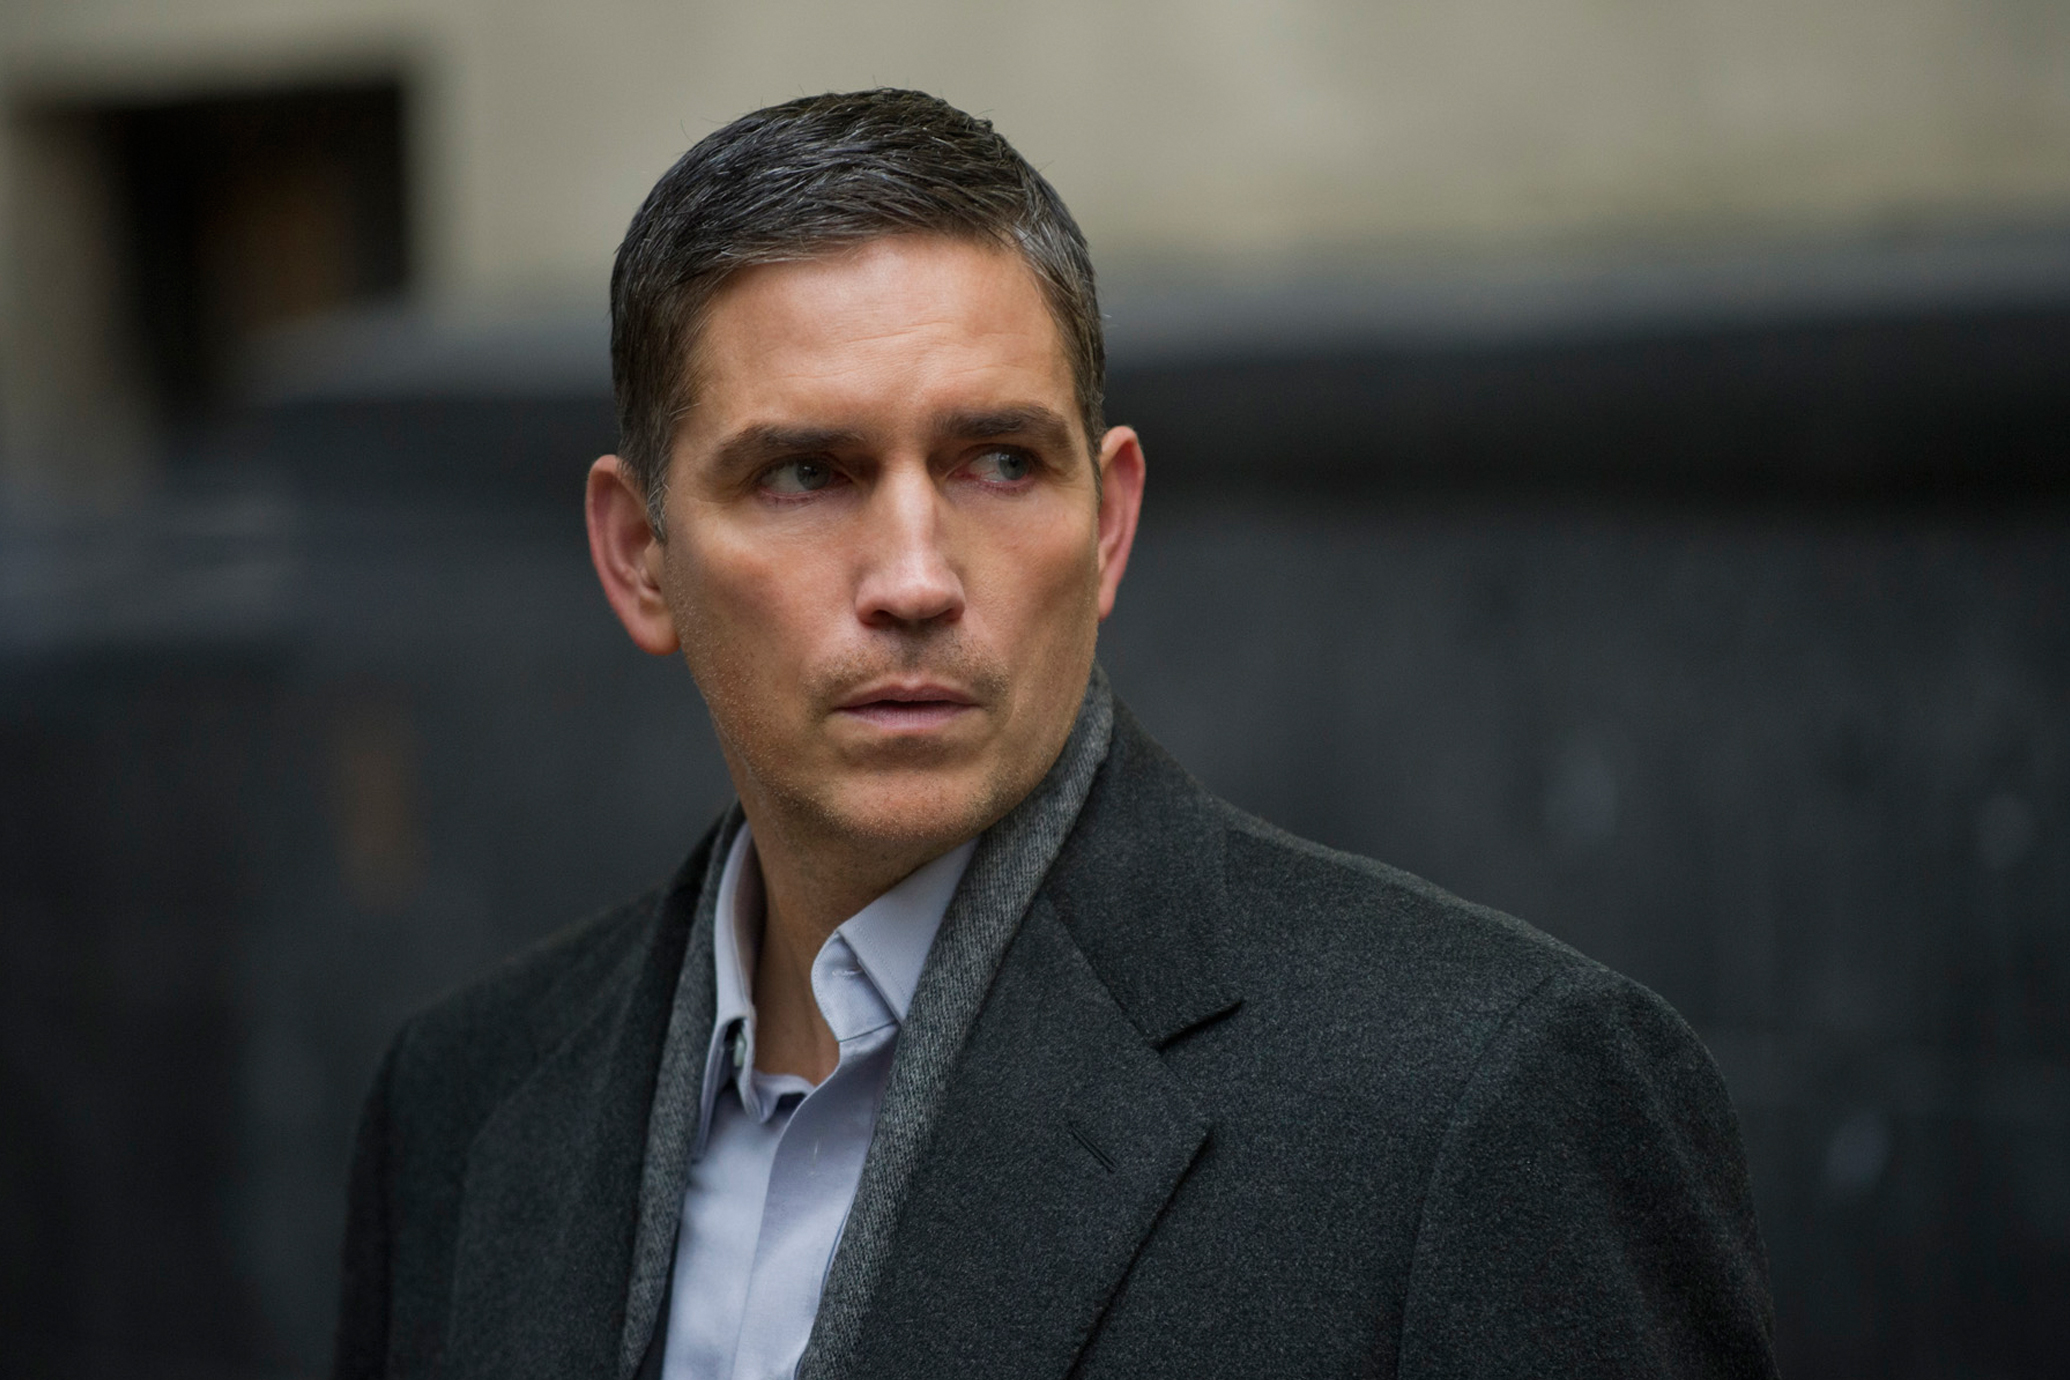person: (333, 81, 1775, 1380)
